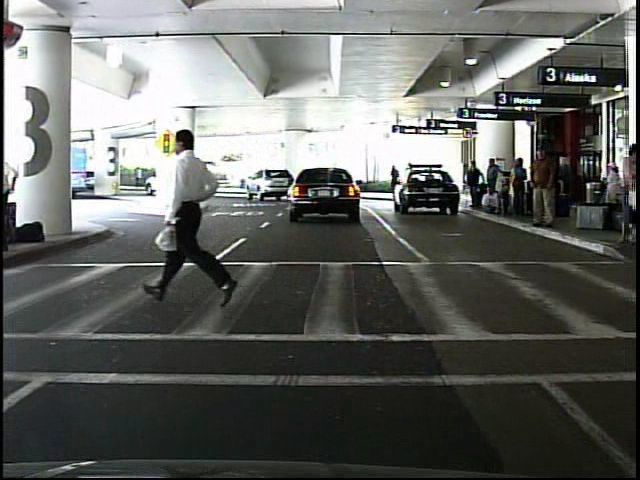person: (143, 129, 243, 310), (526, 143, 560, 231), (466, 159, 484, 210), (389, 164, 403, 199), (133, 163, 144, 188)
